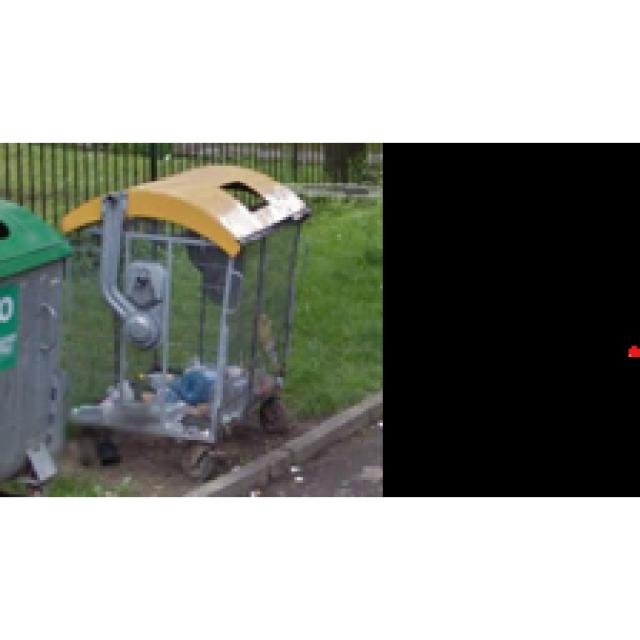plastic trash bin: (67, 170, 301, 487)
